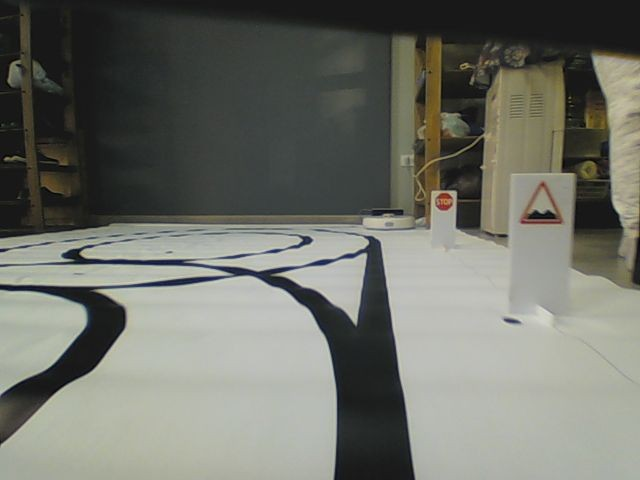Stop: (434, 192, 454, 213)
